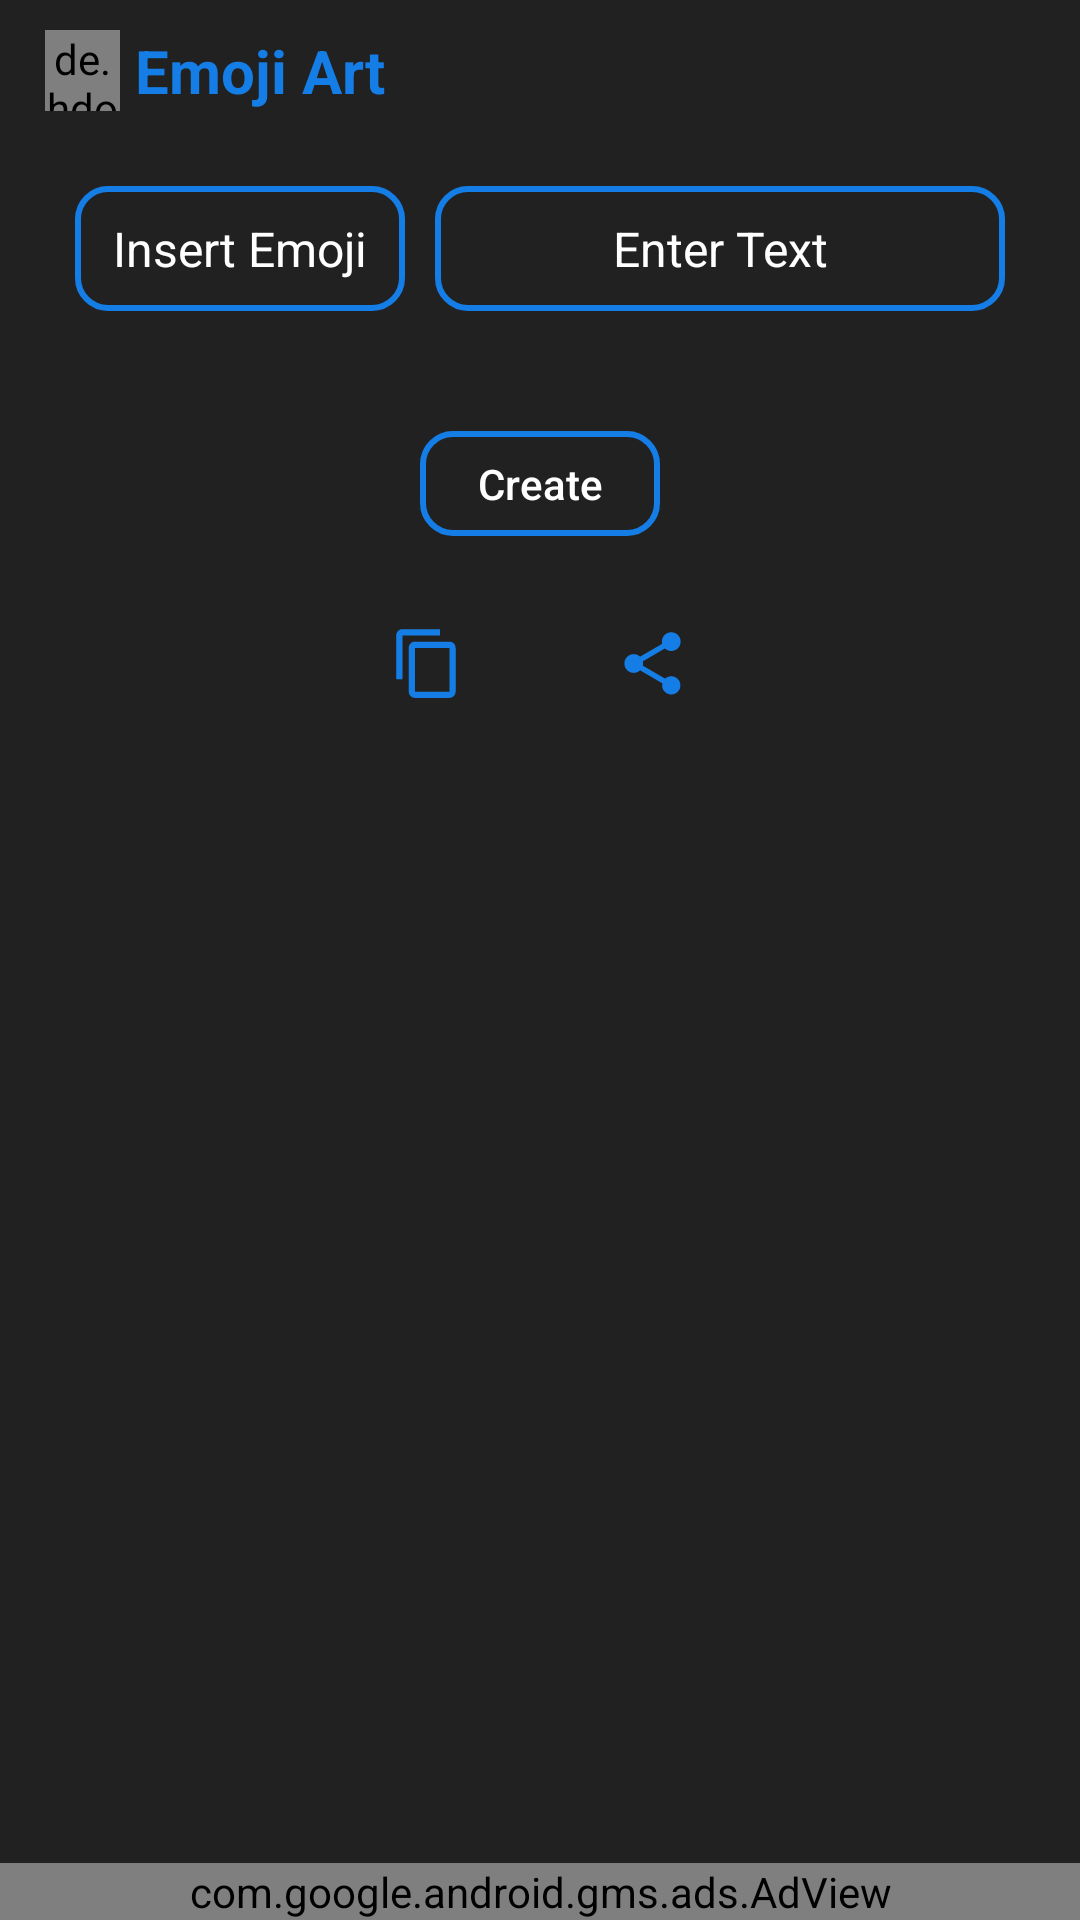

Icon bounding boxes for this 1080px×1920px phone screenshot, format (x1, y1, x2, y2):
share: (624, 632, 681, 695)
